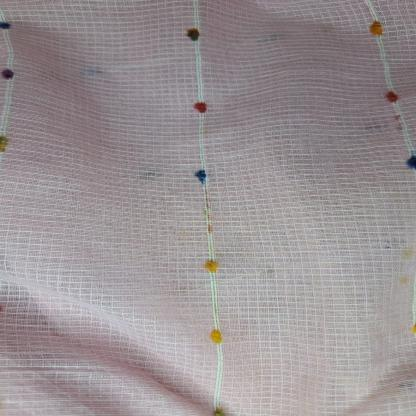spot: (254, 260, 274, 278), (174, 226, 194, 242), (403, 242, 415, 262), (203, 204, 217, 221), (398, 274, 413, 286), (199, 126, 214, 137)
